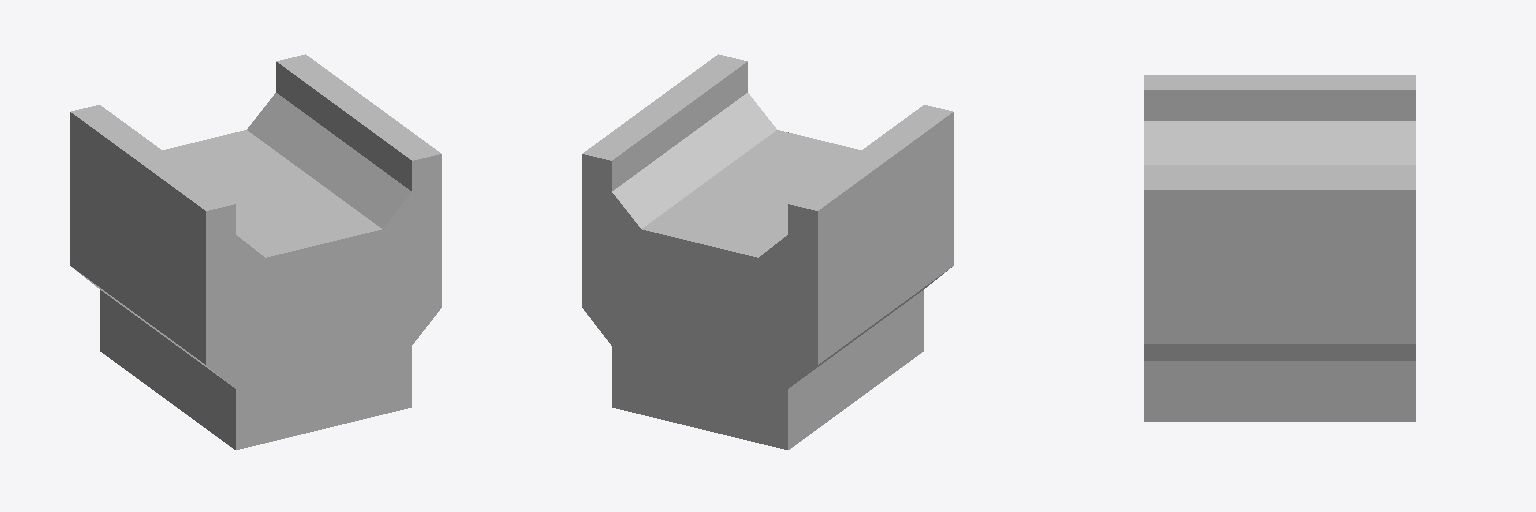
Rendered from testpiece.obj.
The picture shows the model from 3 angles: view 1: azimuth 30°, elevation 25°; view 2: azimuth 150°, elevation 25°; view 3: azimuth 270°, elevation 25°; orthographic projection.
Parts seen in each view (by area): view 1: Cube_Cube.005; view 2: Cube_Cube.005; view 3: Cube_Cube.005.
Part boxes in pixels (left/top/right/bottom): Cube_Cube.005: left=70, top=54, right=441, bottom=449; Cube_Cube.005: left=582, top=54, right=953, bottom=449; Cube_Cube.005: left=1144, top=75, right=1415, bottom=421.
Size of the model in its own units: 2 by 2 by 2.